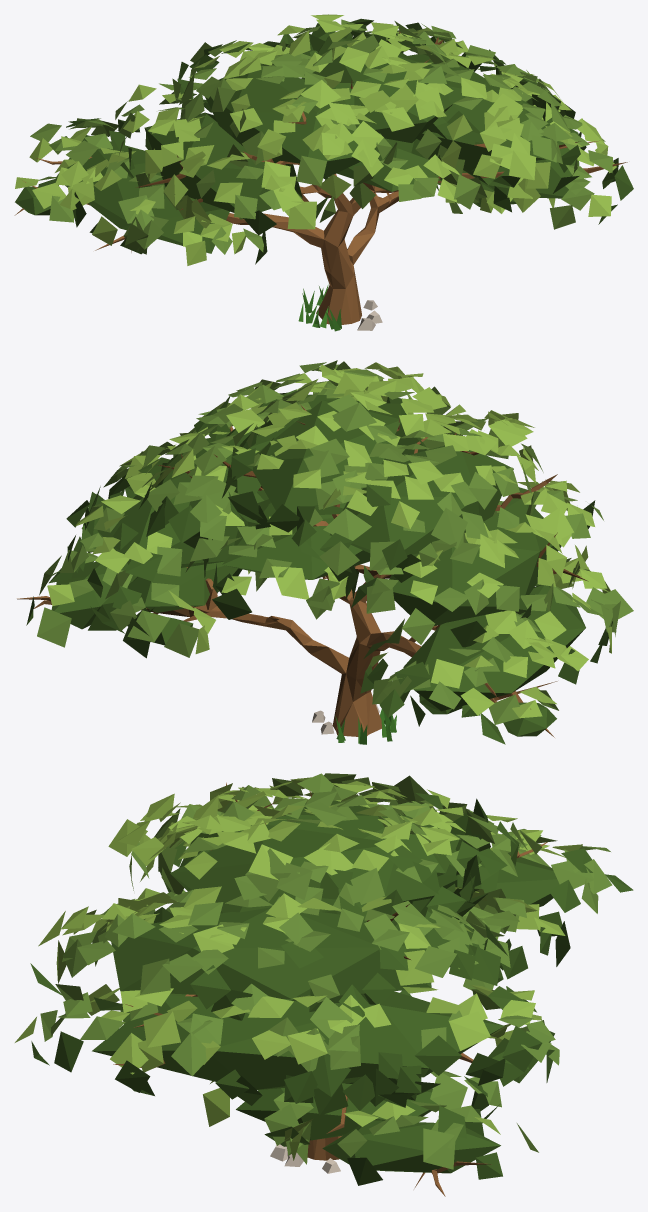
The model's file is elm_4_bloom.glb.
3 renders of one model, top to bottom at view 1: azimuth 30°, elevation 25°; view 2: azimuth 150°, elevation 25°; view 3: azimuth 270°, elevation 25°, orthographic. The views are drawn at different scales.
Parts seen in each view (by area): view 1: elm_4_bloom; view 2: elm_4_bloom; view 3: elm_4_bloom.
Part boxes in pixels (x1,y1,x2,y2): elm_4_bloom: (14, 14, 633, 331); elm_4_bloom: (17, 360, 633, 744); elm_4_bloom: (15, 773, 633, 1196).
Size of the model in its own units: 11.62 by 6.35 by 10.19.
